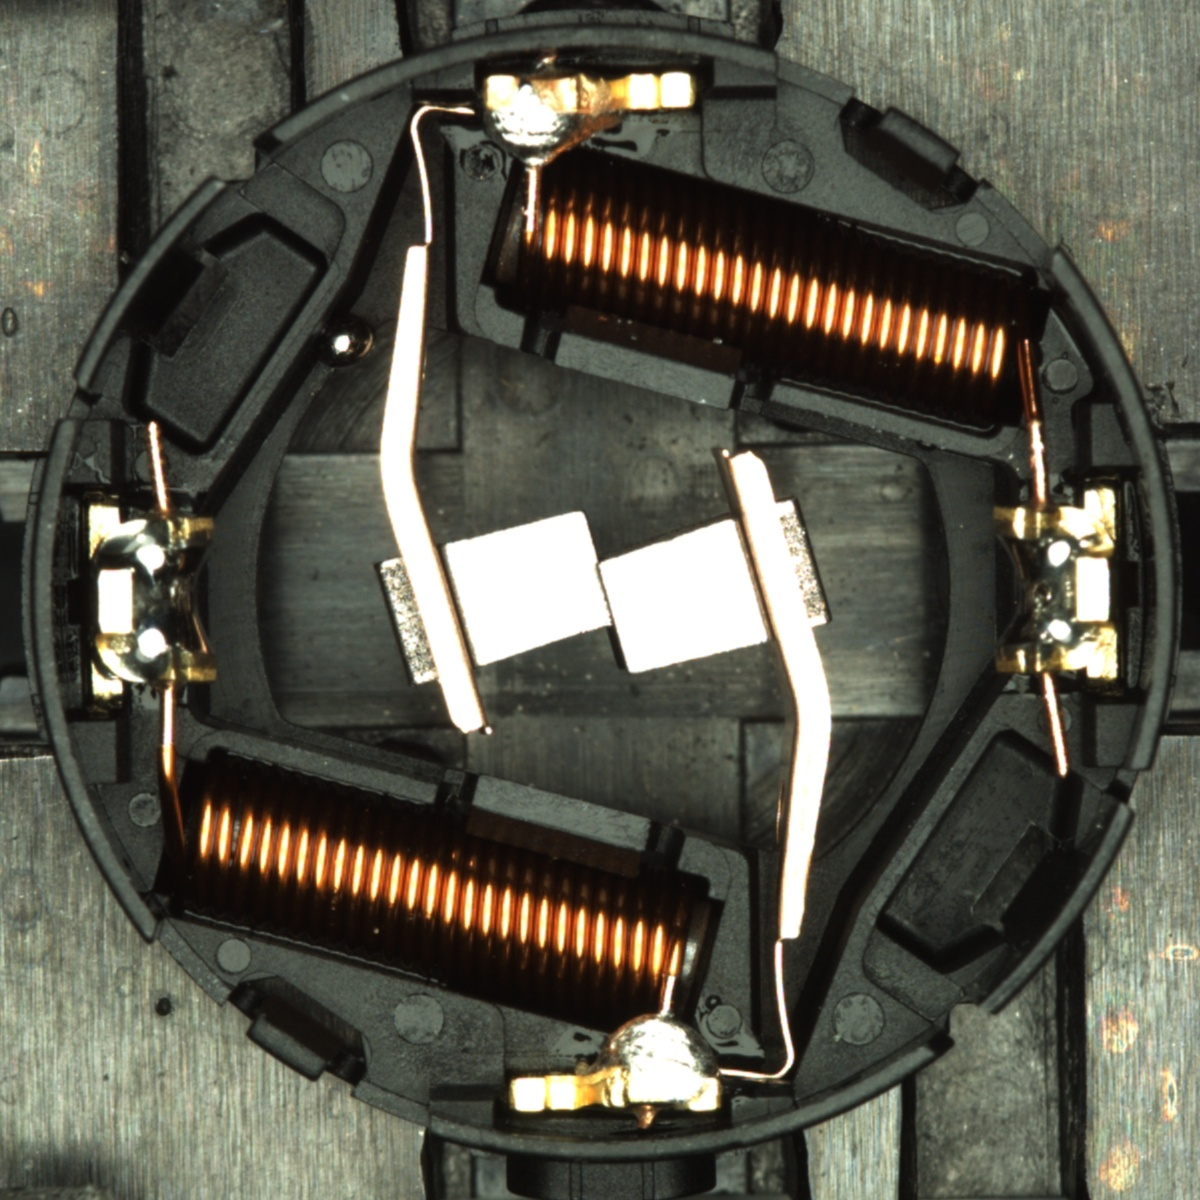1: (713, 929, 943, 1153), (255, 31, 484, 255)
2: (713, 31, 943, 255), (255, 929, 484, 1153)
3: (943, 703, 1171, 929), (25, 255, 255, 479)
4: (713, 703, 943, 929)
5: (484, 815, 713, 1041), (484, 143, 713, 367)
6: (255, 703, 484, 929), (713, 255, 943, 479)
7: (25, 703, 255, 929), (943, 255, 1171, 479)
cacbon: (395, 498, 802, 685)
chau_dien: (82, 498, 222, 701), (985, 487, 1125, 686)
hat_chi: (318, 313, 375, 367)
tay_choi: (479, 70, 700, 173), (507, 1010, 723, 1113)
thanh_de: (954, 787, 1142, 1031), (60, 163, 246, 405)
